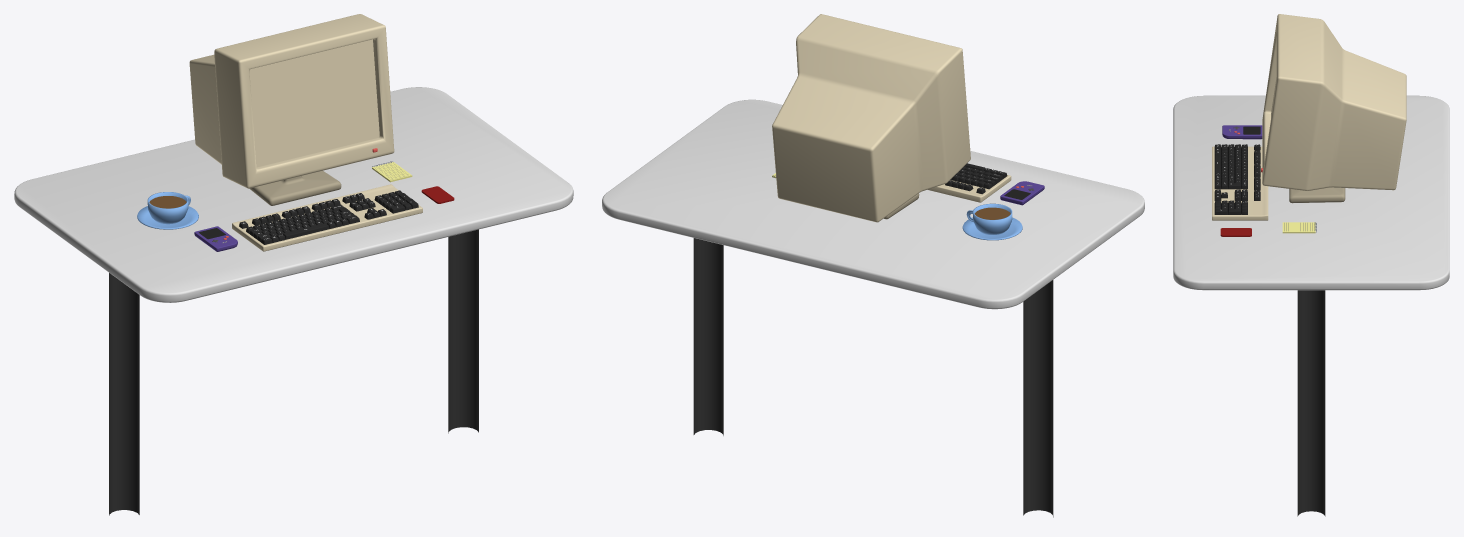
File: Prototype.glb
The picture shows the model from 3 angles, left to right: view 1: azimuth 30°, elevation 25°; view 2: azimuth 150°, elevation 25°; view 3: azimuth 270°, elevation 25°; orthographic projection. The views are drawn at different scales.
Visible parts, largest first — view 1: Table, Monitor, Legs, Keyboard, MonitorStand, Coffee Cup, Gameboy; view 2: Table, Monitor, Legs, Coffee Cup, Keyboard, Gameboy; view 3: Table, Monitor, Legs, Keyboard, MonitorStand, Gameboy, Notepad.
Boxes of the visible parts, x1,y1,x2,y2 form: Table: (14,87,573,302); Monitor: (189,14,394,188); Legs: (109,229,478,515); Keyboard: (232,184,422,251); MonitorStand: (249,170,341,205); Coffee Cup: (137,192,198,229); Gameboy: (194,226,237,251); Table: (602,99,1144,309); Monitor: (772,14,970,222); Legs: (693,238,1053,517); Coffee Cup: (962,203,1022,240); Keyboard: (927,175,1011,202); Gameboy: (1000,181,1044,205); Table: (1173,95,1449,290); Monitor: (1262,14,1406,190); Legs: (1297,290,1325,516); Keyboard: (1212,146,1268,220); MonitorStand: (1289,187,1345,203); Gameboy: (1222,125,1262,139); Notepad: (1282,222,1315,233).
Bounding box in the file's own units: 1.6 × 1.59 × 1.
